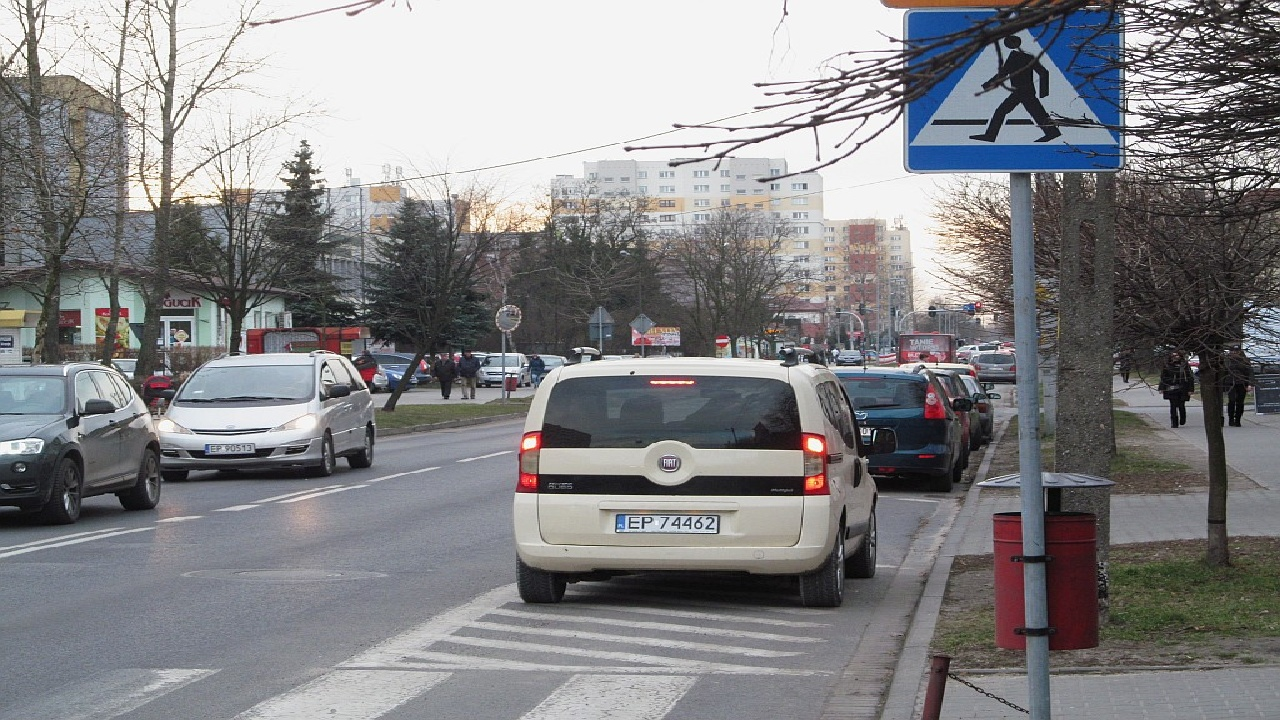D6: (903, 6, 1126, 173)
